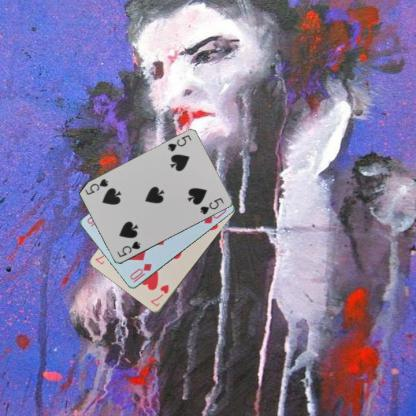10d: (127, 262, 153, 282)
5s: (165, 132, 192, 153), (115, 238, 142, 258)
7h: (148, 282, 170, 308)
